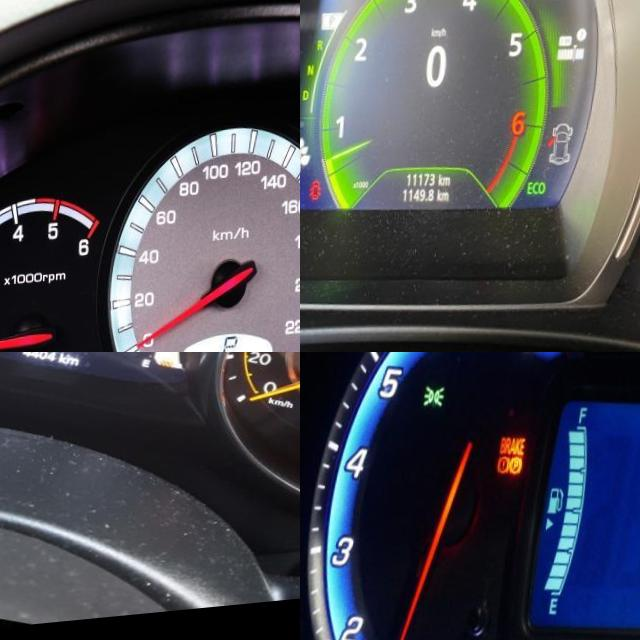Doors: (311, 183, 323, 204)
SideLamp: (422, 386, 446, 413)
